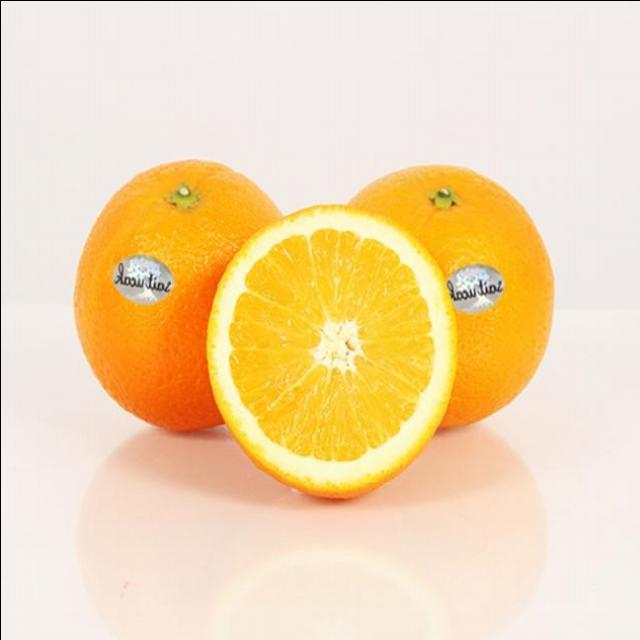orange: (62, 136, 310, 437), (330, 147, 561, 456)
